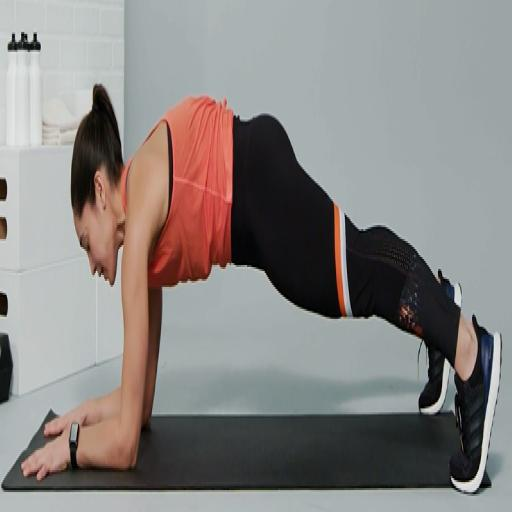Normal_BrenchPress: (20, 82, 502, 494)
